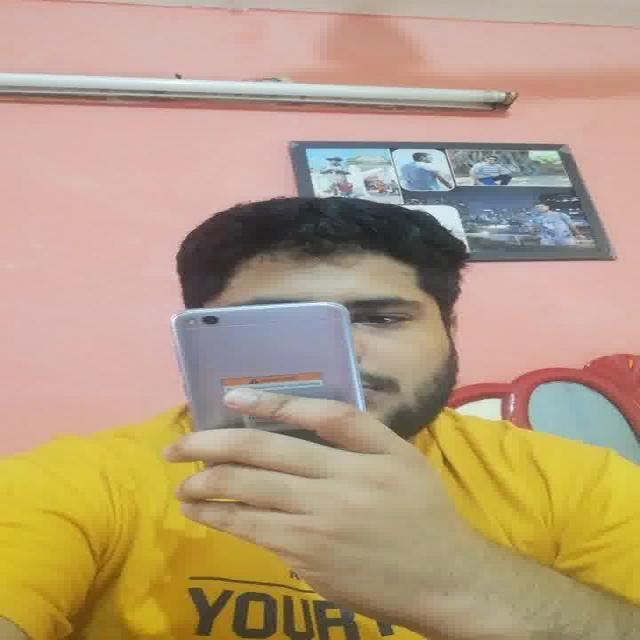Phone: (169, 303, 365, 416)
